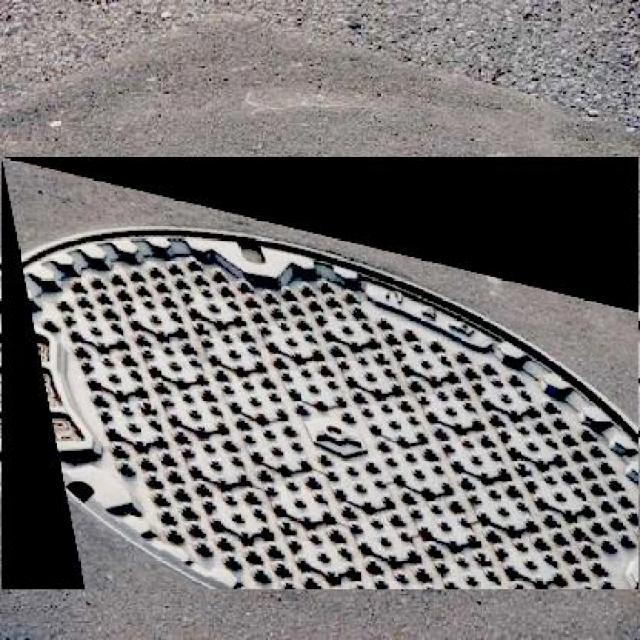Manhole: (1, 156, 638, 590)
